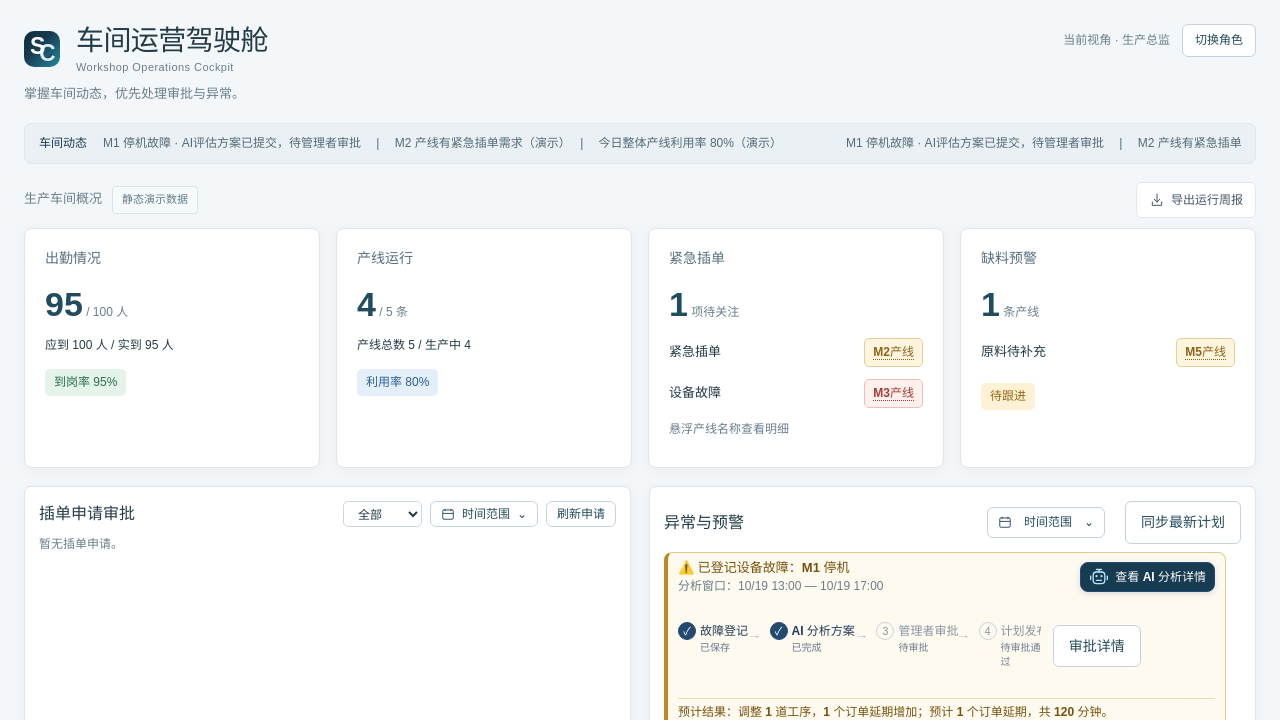
keeps approval forms in a drawer and still sends the leader approval action
expect the field labelled "审批意见（必填）" is not shown: met
expect the element "异常与预警" shows "预计 1 个订单延期，共 120 分钟": met, box left=678, top=705, right=1113, bottom=719
Click the button "审批详情". click: (1097, 646)
box: left=1053, top=624, right=1141, bottom=667
(page scrolled)
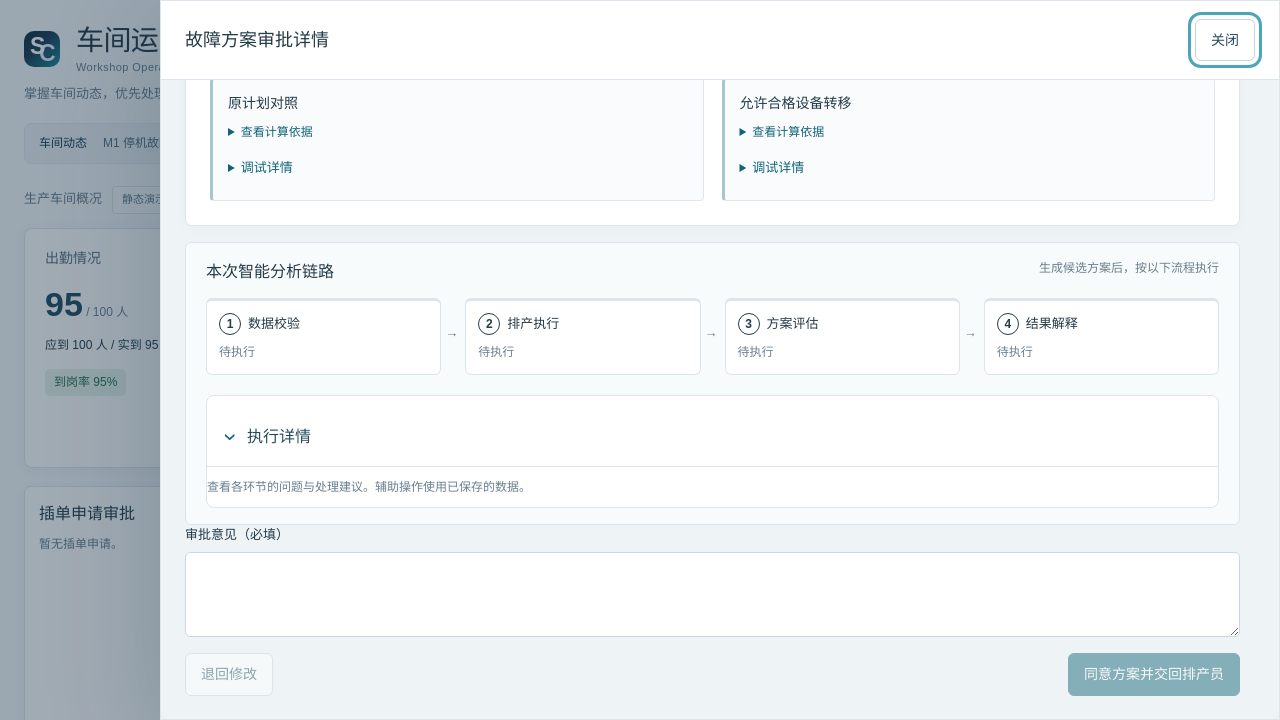
Type "核验通过" into the text box labelled "审批意见（必填）". click: (712, 595)
box: left=185, top=552, right=1240, bottom=637
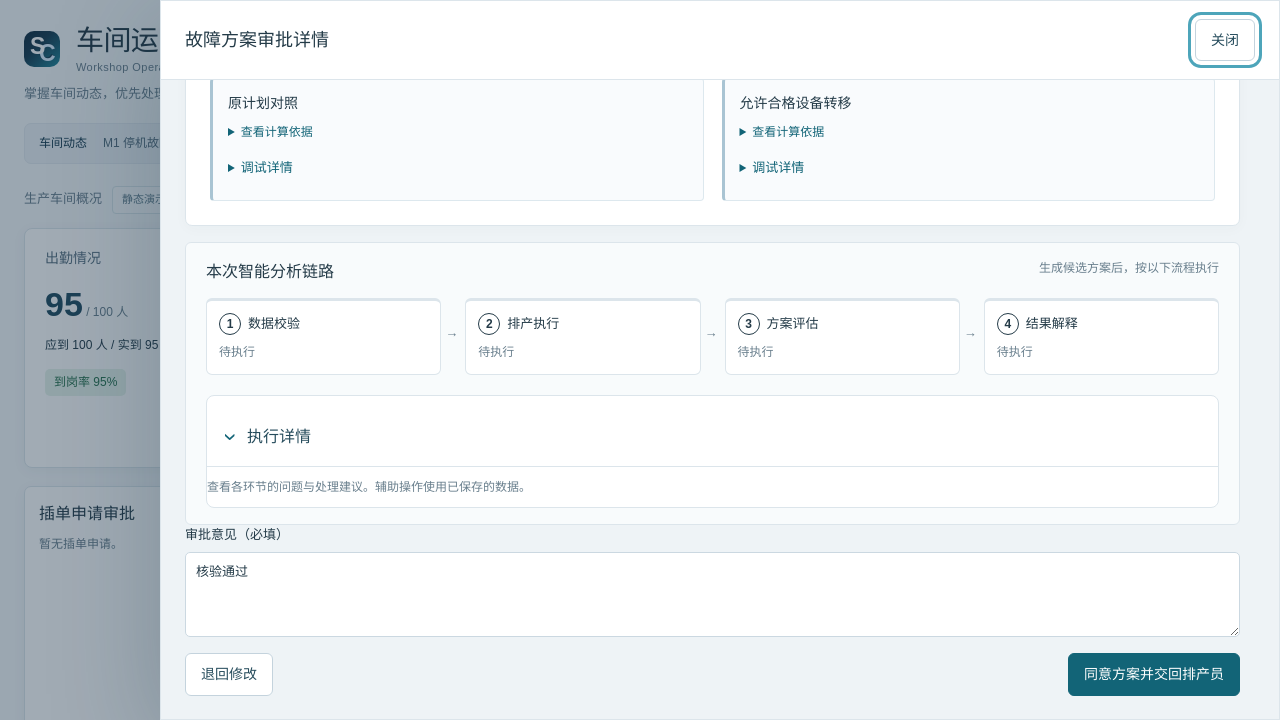
Click the button "同意方案并交回排产员". click: (1154, 674)
box: left=1068, top=653, right=1240, bottom=696
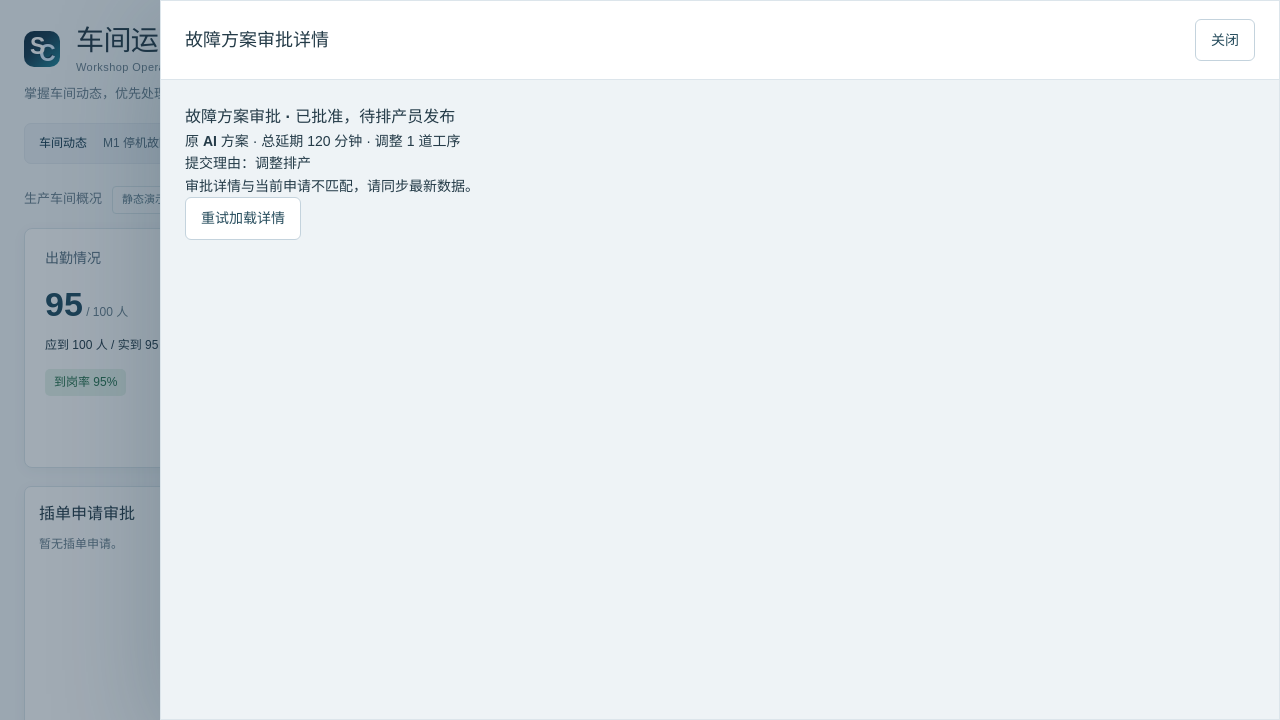
expect the heading "故障方案审批 · 已批准，待排产员发布" is shown: met, box left=185, top=108, right=455, bottom=125
